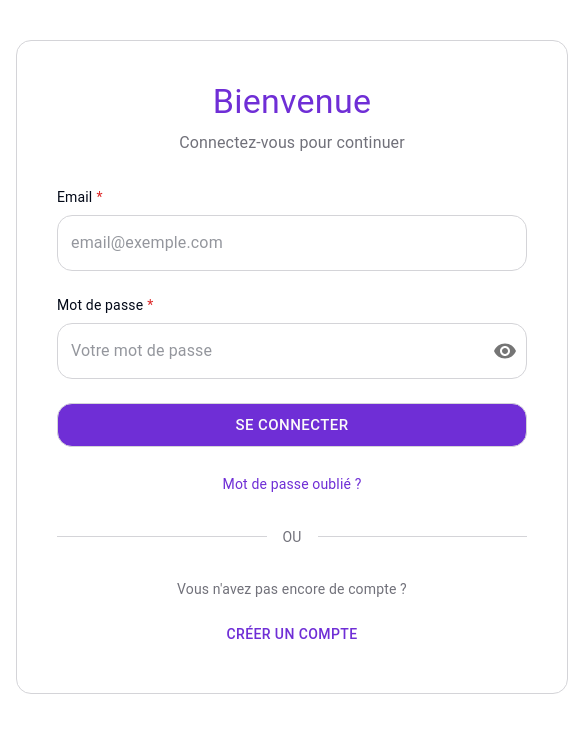
Test case: LoginPage › Form Validation › should display an error if fields are empty
Click the button "Se connecter" at (292, 425), box [57,403,527,447]
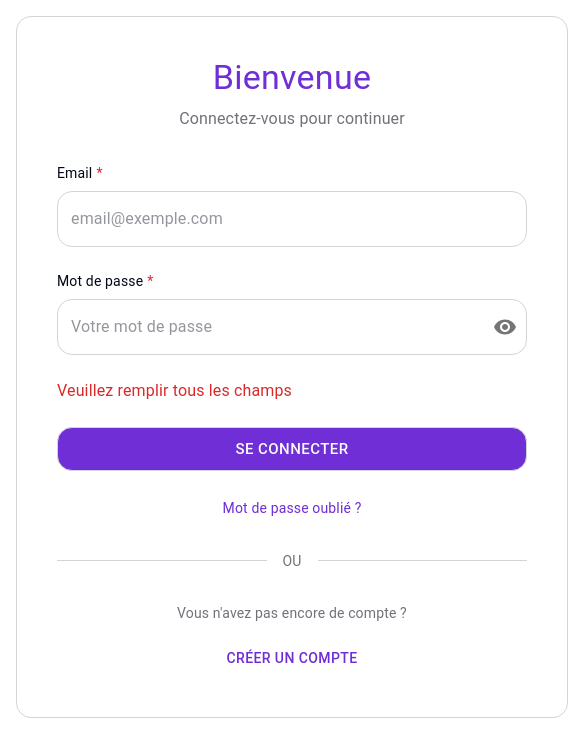
Expected: the text "Veuillez remplir tous les champs" is shown, [57,381,292,400]
